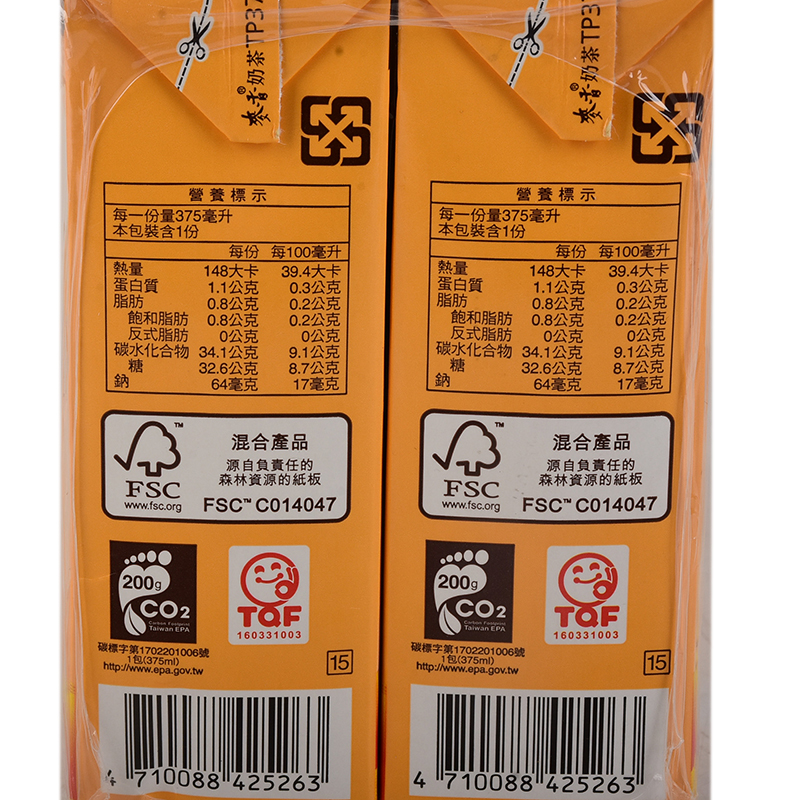milk tea: (63, 1, 379, 800), (382, 1, 694, 800)
